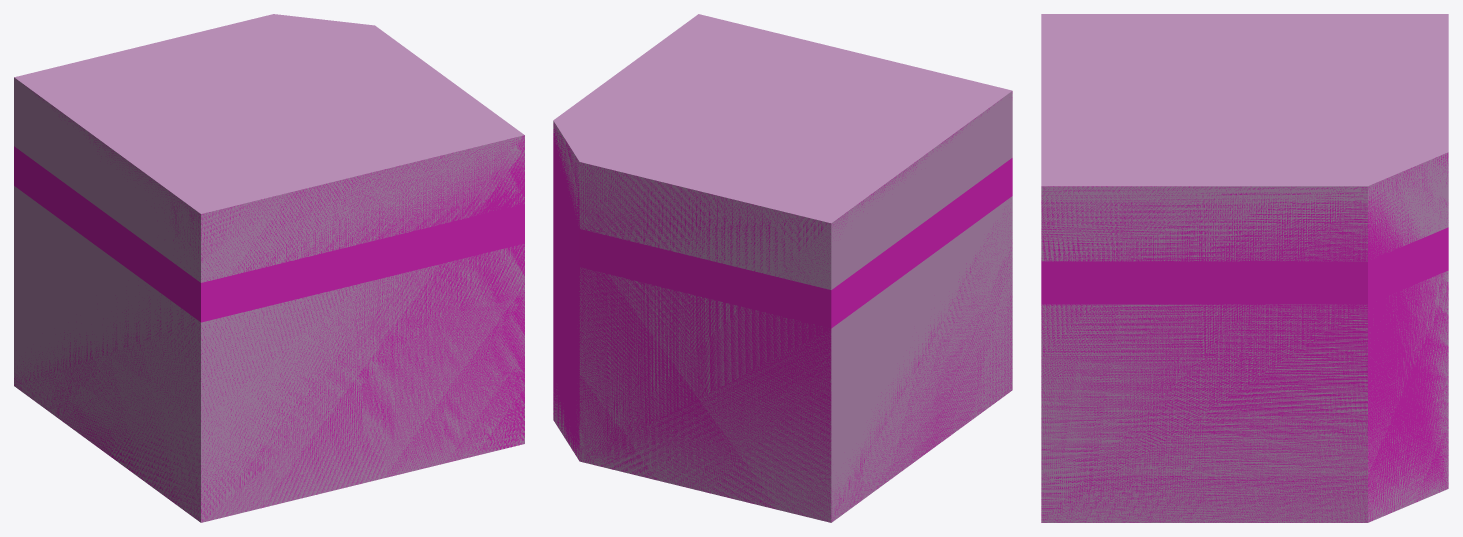
The model's file is building14.fbx.
3 renders of one model, left to right at view 1: azimuth 30°, elevation 25°; view 2: azimuth 150°, elevation 25°; view 3: azimuth 270°, elevation 25°, orthographic. The views are drawn at different scales.
Visible parts, largest first — view 1: building14_MESH, building14_COL; view 2: building14_MESH, building14_COL; view 3: building14_MESH, building14_COL.
Boxes of the visible parts, <box> form: building14_MESH: <box>14,14,524,522</box>; building14_COL: <box>14,80,524,522</box>; building14_MESH: <box>553,14,1012,522</box>; building14_COL: <box>553,92,1012,522</box>; building14_MESH: <box>1041,14,1448,522</box>; building14_COL: <box>1041,153,1448,522</box>.
Bounding box in the file's own units: 673 × 673 × 614.
